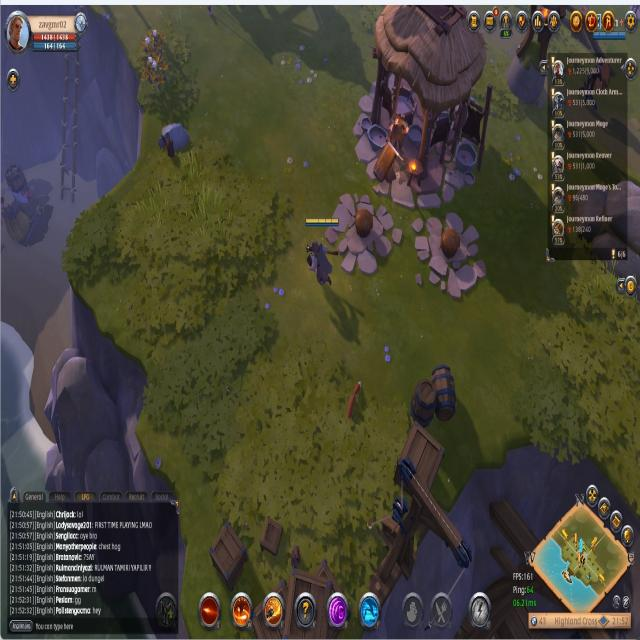stone: (156, 120, 193, 162)
